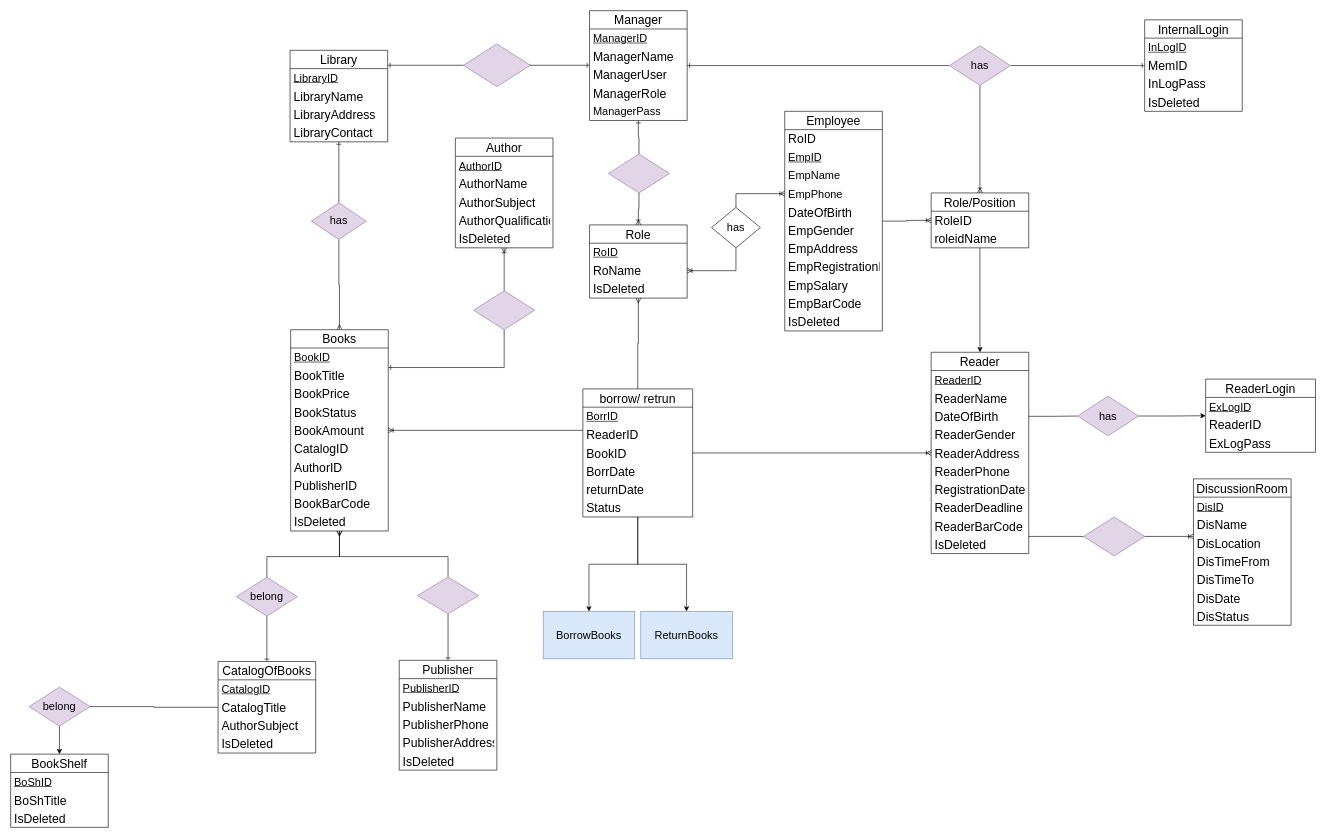
This 1326x838 diagram has some shape labels left out. Here are the shapes that lost their labels. From the top down, the centre of each, then its label:
At (x=496, y=65): "manage".
At (x=638, y=173): "is".
At (x=504, y=310): "written by".
At (x=1114, y=536): "register".
At (x=448, y=595): "publish".
